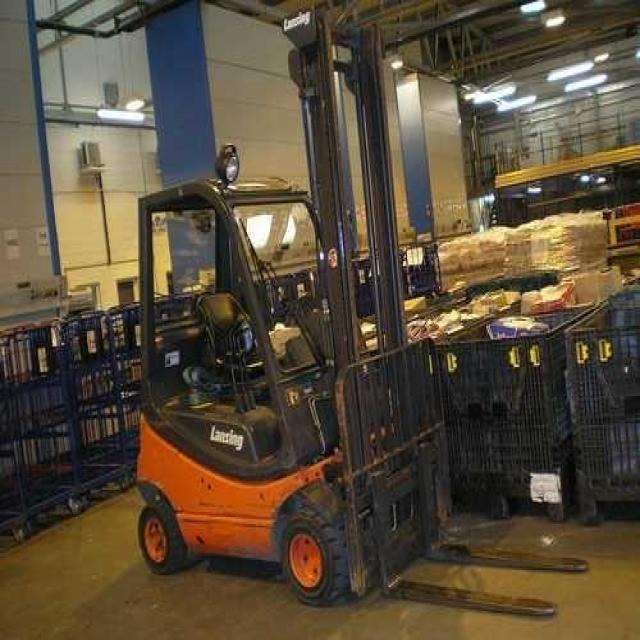forklift: (134, 11, 447, 610)
